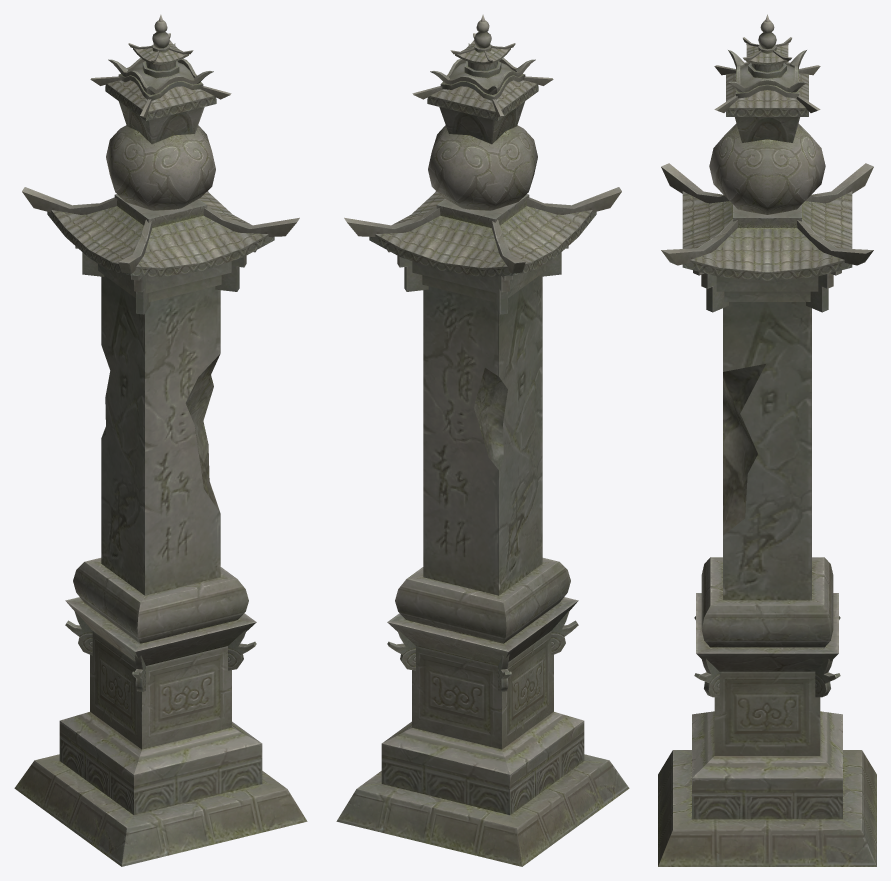
File: wlf_wujian11_jgc.FBX
3 renders of one model, left to right at view 1: azimuth 30°, elevation 25°; view 2: azimuth 150°, elevation 25°; view 3: azimuth 270°, elevation 25°, orthographic.
Visible parts, largest first — view 1: wlf_wujian11_jgc; view 2: wlf_wujian11_jgc; view 3: wlf_wujian11_jgc.
Boxes of the visible parts, <box> form: wlf_wujian11_jgc: <box>14,14,307,866</box>; wlf_wujian11_jgc: <box>336,14,629,866</box>; wlf_wujian11_jgc: <box>658,14,876,866</box>.
Bounding box in the file's own units: 10 × 40.68 × 10.
